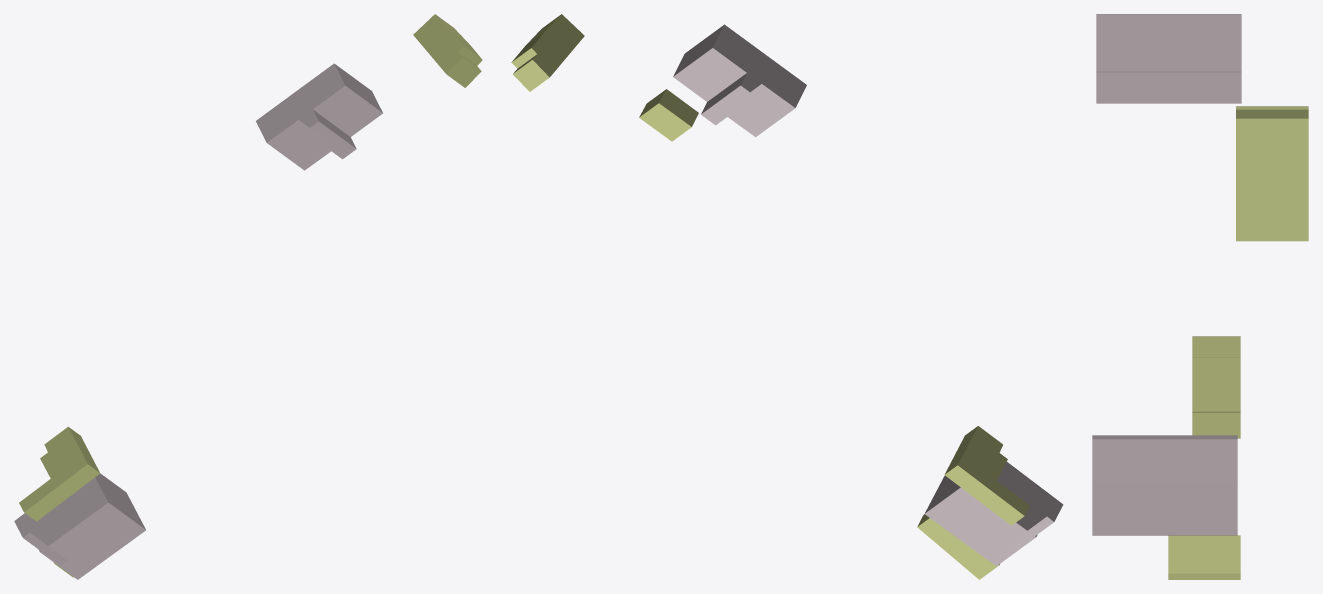
The picture shows the model from 3 angles, left to right: view 1: azimuth 30°, elevation 25°; view 2: azimuth 150°, elevation 25°; view 3: azimuth 270°, elevation 25°; orthographic projection. The views are drawn at different scales.
Visible parts, largest first — view 1: 0_0_1_1_2_1_2; view 2: 0_0_1_1_2_1_2; view 3: 0_0_1_1_2_1_2.
Boxes of the visible parts, box(x1,y1,x2,y2) form: 0_0_1_1_2_1_2: box(14, 14, 482, 579); 0_0_1_1_2_1_2: box(511, 14, 1063, 579); 0_0_1_1_2_1_2: box(1092, 14, 1308, 579).
Bounding box in the file's own units: 128 × 115 × 26.8.
